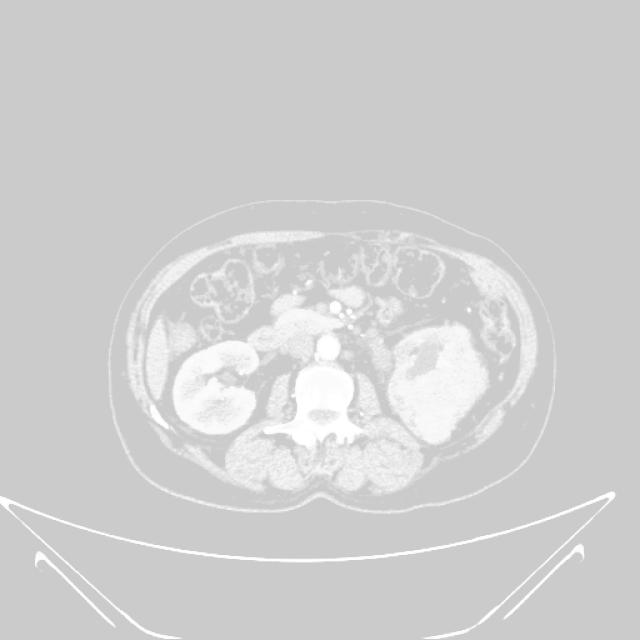TUMOR: (143, 331, 500, 449)
